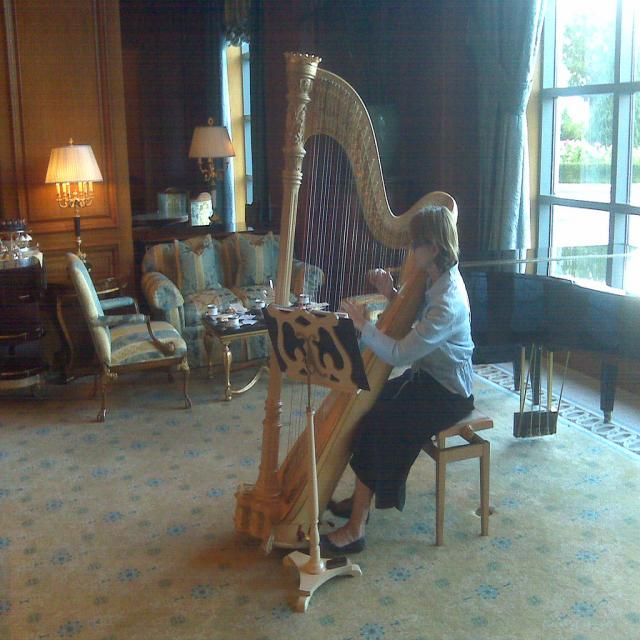harp: (231, 50, 460, 552)
